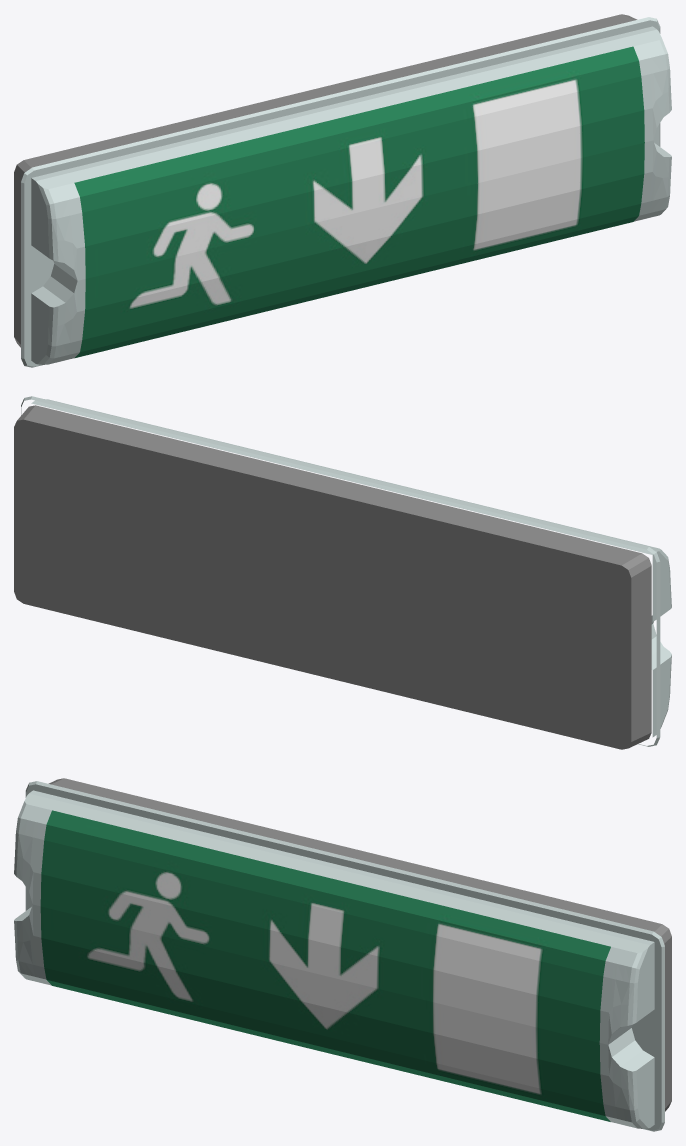
File: sweethome3d-blendswap-cc-0-emergency-sign.glb
3 views of the same model, one above another, from view 1: azimuth 30°, elevation 25°; view 2: azimuth 150°, elevation 25°; view 3: azimuth 330°, elevation 25° (orthographic).
Visible parts, largest first — view 1: Emergency_light_Cube.002; view 2: Emergency_light_Cube.002; view 3: Emergency_light_Cube.002.
Boxes of the visible parts, box(x1,y1,x2,y2) form: Emergency_light_Cube.002: box(14, 14, 671, 367); Emergency_light_Cube.002: box(14, 396, 671, 749); Emergency_light_Cube.002: box(14, 778, 671, 1131).
Bounding box in the file's own units: 30.02 × 8.99 × 3.49.
3 materials, 1 textured.
